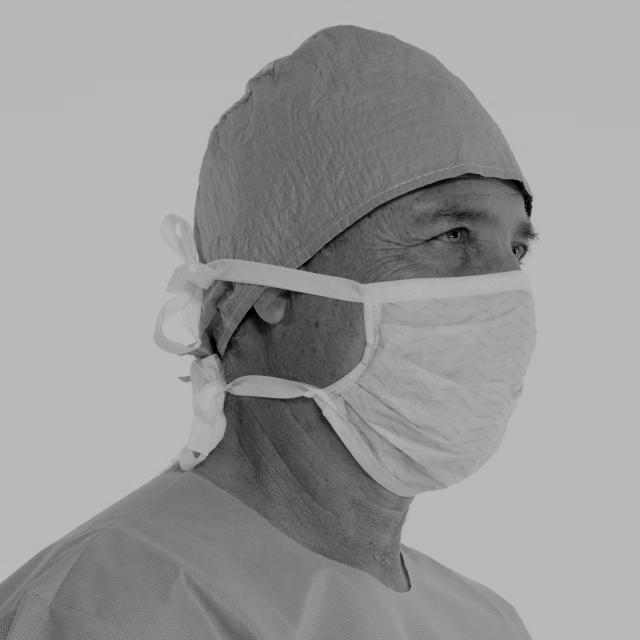fake: (305, 264, 550, 522)
real: (305, 172, 538, 509)
